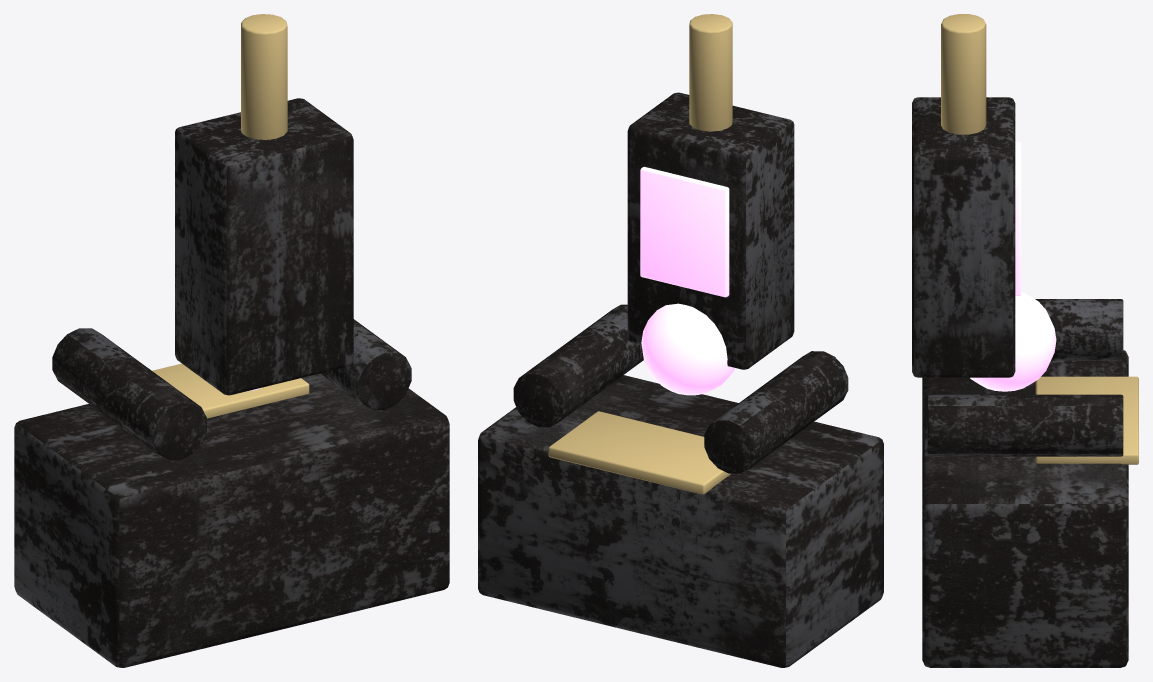
Rendered from prop_weapon_forge.glb.
3 views of the same model, side by side, from view 1: azimuth 30°, elevation 25°; view 2: azimuth 150°, elevation 25°; view 3: azimuth 270°, elevation 25° (orthographic). The views are drawn at different scales.
Parts seen in each view (by area): view 1: Base, Tower, Roller, Chimney, Roller.001, Feeder; view 2: Base, Tower, Vent, Roller, Feeder, Roller.001, Core, Chimney; view 3: Base, Tower, Roller.001, Chimney, Roller, Feeder, Core, Vent.
Part boxes in pixels (x1,y1,x2,y2): Base: (14, 373, 449, 667); Tower: (175, 98, 353, 395); Roller: (52, 328, 206, 459); Chimney: (241, 14, 287, 139); Roller.001: (320, 319, 411, 409); Feeder: (152, 363, 309, 418); Base: (478, 375, 883, 667); Tower: (627, 92, 794, 369); Vent: (640, 166, 729, 297); Roller: (704, 351, 848, 473); Feeder: (548, 411, 730, 494); Roller.001: (513, 304, 643, 427); Core: (641, 303, 734, 395); Chimney: (689, 14, 732, 131); Base: (922, 350, 1128, 667); Tower: (912, 97, 1015, 377); Roller.001: (927, 394, 1123, 456); Chimney: (941, 14, 986, 134); Roller: (1035, 299, 1123, 360); Feeder: (1035, 376, 1138, 464); Core: (970, 291, 1056, 391); Vent: (1015, 141, 1021, 295).
Size of the model in its own units: 1.8 by 3.05 by 1.1.
Materials: 3 (1 with a texture image).
